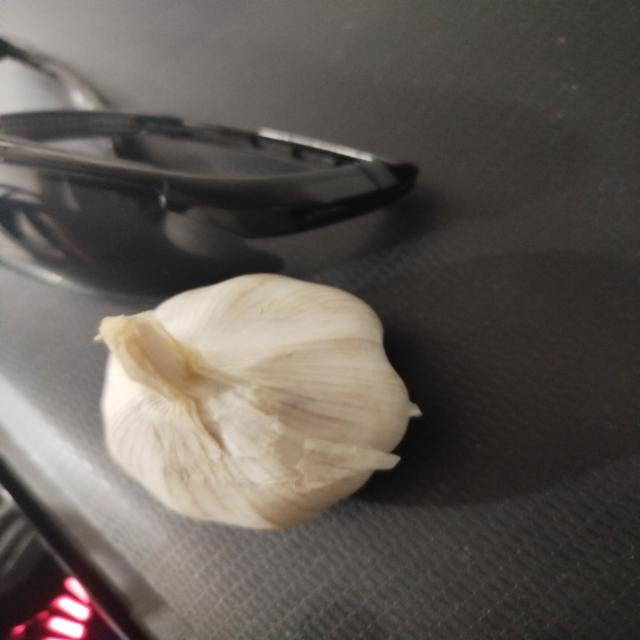garlic: (94, 272, 423, 530)
